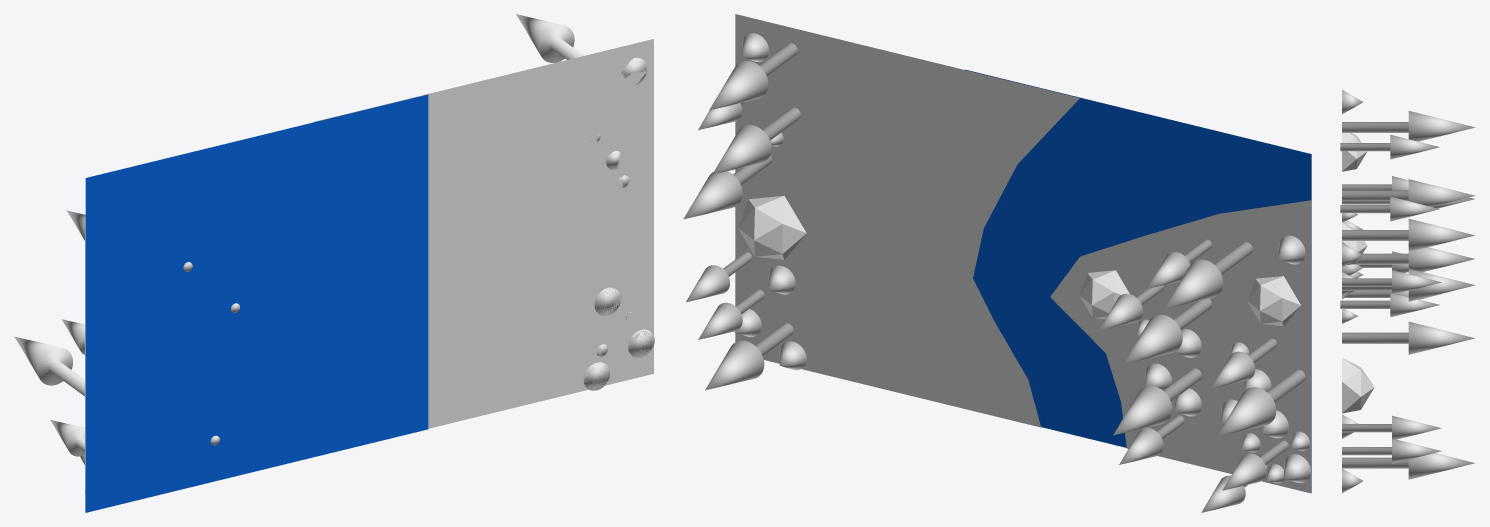
File: forest16.dae
The picture shows the model from 3 angles, left to right: view 1: azimuth 30°, elevation 25°; view 2: azimuth 150°, elevation 25°; view 3: azimuth 270°, elevation 25°; orthographic projection. The views are drawn at different scales.
Parts seen in each view (by area): view 1: Plane.035, Plane.034, Cone.2290, Cone.2274, Cone.2281; view 2: Plane.034, Plane.035, Icosphere.054, Cone.2305, Cone.2296, Cone.2273, Cone.2274, Cone.2290, Cone.2299, Cone.2304, Cone.2280, Icosphere.056 (+9 smaller); view 3: Cone.2280, Cone.2274, Cone.2305, Cone.2304, Cone.2273, Cone.2299, Icosphere.054, Cone.2296, Cone.2307, Cone.2292, Cone.2303, Cone.2269 (+11 smaller).
Boxes of the visible parts, bbox=[...] form: Plane.035: bbox=[85, 94, 428, 512]; Plane.034: bbox=[85, 39, 653, 512]; Cone.2290: bbox=[14, 336, 84, 396]; Cone.2274: bbox=[516, 14, 583, 62]; Cone.2281: bbox=[50, 420, 84, 456]; Plane.034: bbox=[735, 14, 1311, 493]; Plane.035: bbox=[965, 69, 1311, 492]; Icosphere.054: bbox=[738, 195, 806, 259]; Cone.2305: bbox=[1164, 242, 1252, 308]; Cone.2296: bbox=[712, 107, 801, 174]; Cone.2273: bbox=[705, 323, 793, 390]; Cone.2274: bbox=[709, 43, 797, 110]; Cone.2290: bbox=[1217, 369, 1305, 436]; Cone.2299: bbox=[1113, 368, 1201, 435]; Cone.2304: bbox=[1123, 298, 1212, 364]; Cone.2280: bbox=[683, 155, 772, 219]; Icosphere.056: bbox=[1247, 276, 1300, 326]; Cone.2280: bbox=[1342, 321, 1474, 354]; Cone.2274: bbox=[1342, 219, 1474, 251]; Cone.2305: bbox=[1342, 111, 1475, 141]; Cone.2304: bbox=[1342, 179, 1475, 206]; Cone.2273: bbox=[1342, 453, 1475, 479]; Cone.2299: bbox=[1351, 247, 1474, 271]; Icosphere.054: bbox=[1342, 357, 1374, 413]; Cone.2296: bbox=[1342, 268, 1474, 301]; Cone.2307: bbox=[1340, 134, 1439, 159]; Cone.2292: bbox=[1342, 415, 1441, 440]; Cone.2303: bbox=[1340, 196, 1439, 221]; Cone.2269: bbox=[1342, 270, 1441, 294].
Size of the model in its own units: 64.84 by 16.19 by 36.3.
